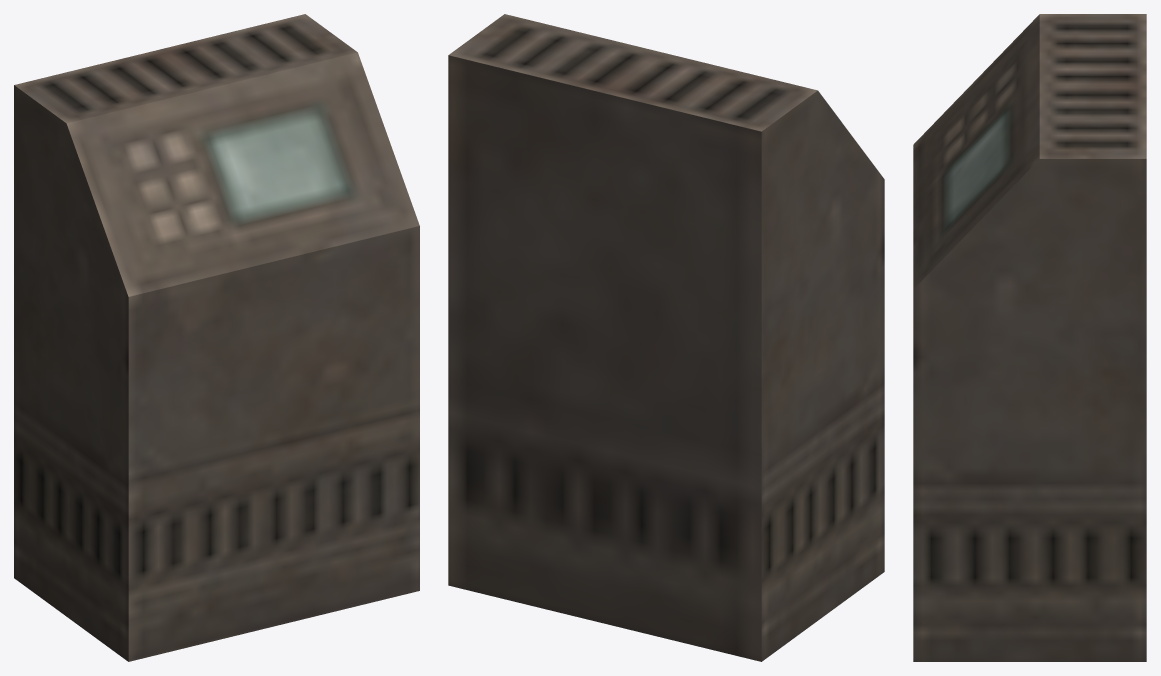
The model's file is machine.FBX.
3 views of the same model, side by side, from view 1: azimuth 30°, elevation 25°; view 2: azimuth 150°, elevation 25°; view 3: azimuth 270°, elevation 25° (orthographic). The views are drawn at different scales.
Visible parts, largest first — view 1: machine; view 2: machine; view 3: machine.
Boxes of the visible parts, left/top/right/bottom form: machine: left=14, top=14, right=419, bottom=661; machine: left=448, top=14, right=884, bottom=661; machine: left=913, top=14, right=1146, bottom=661.
Bounding box in the file's own units: 23.3 × 37.68 × 15.84.
